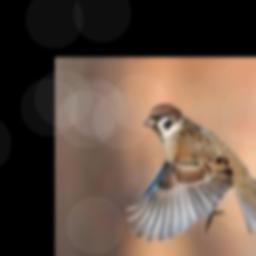Sparrow: (127, 104, 256, 241)
